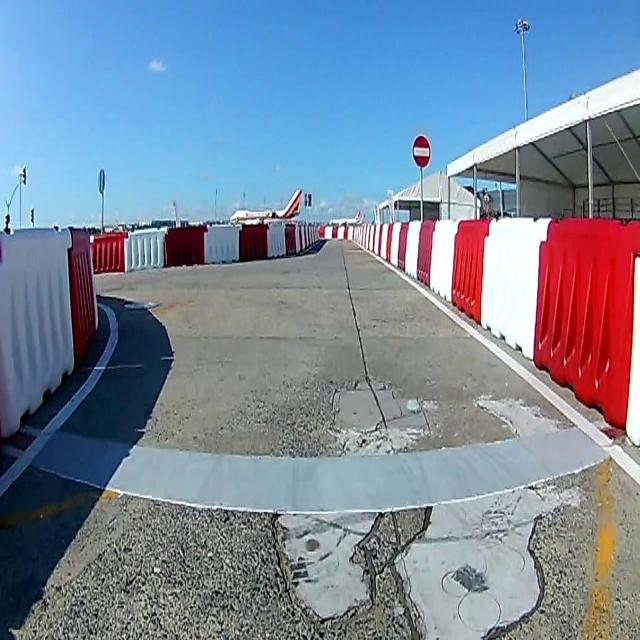girisyok: (411, 133, 431, 169)
